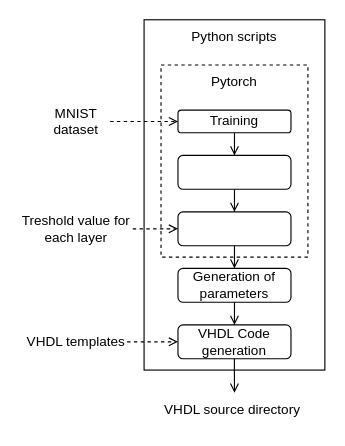
Some shapes in this 345 by 446 pixel diagram are drawn without their labels. Here are the shapes that lost their labels. From the top down, the centre of each, then its label:
point (234, 171): Binarization and retraining
point (234, 228): Pruning and retraining
